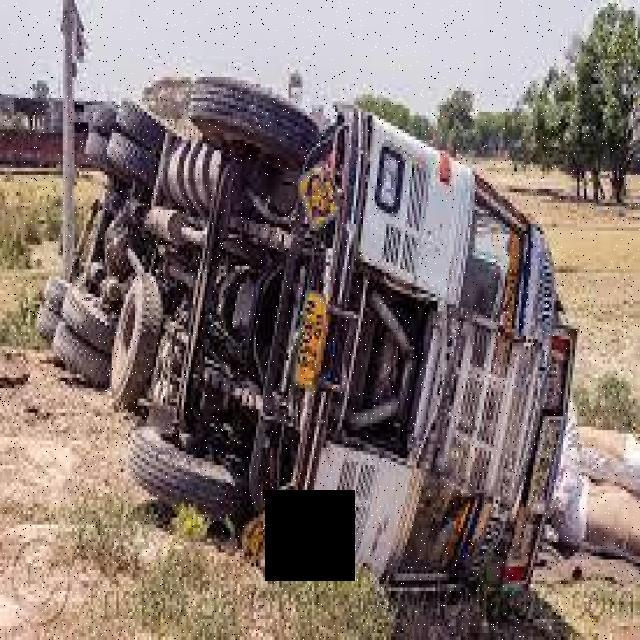severe: (30, 60, 582, 594)
